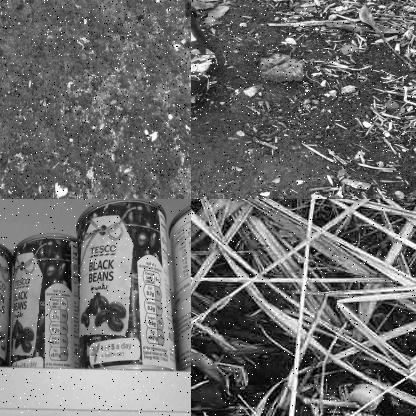metal: (75, 199, 177, 372), (12, 233, 78, 370), (168, 199, 190, 374)
plastic: (191, 5, 219, 102)
